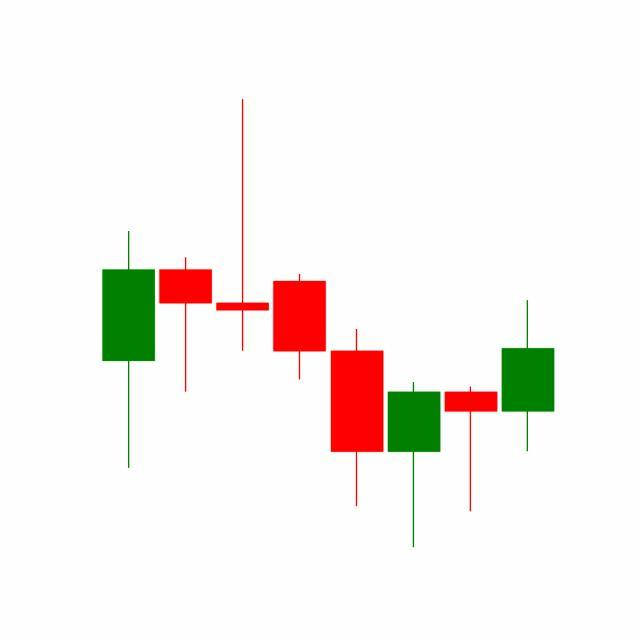Hikkake Pattern: (270, 270, 555, 548)
